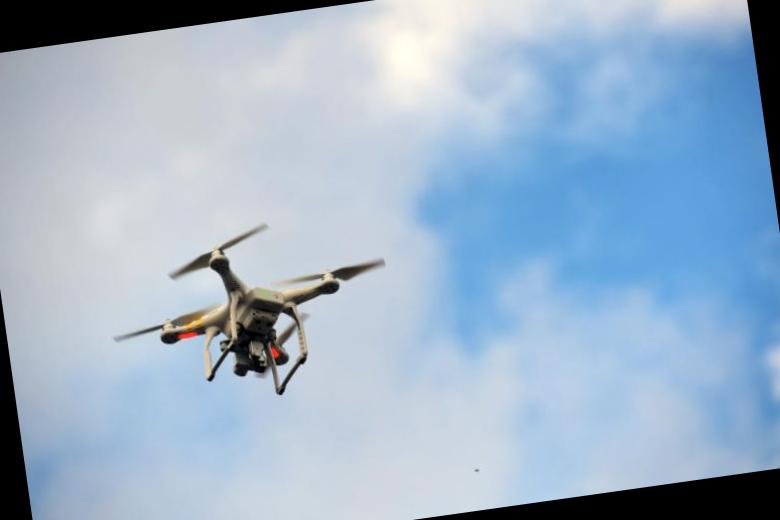drone: (99, 203, 406, 401)
